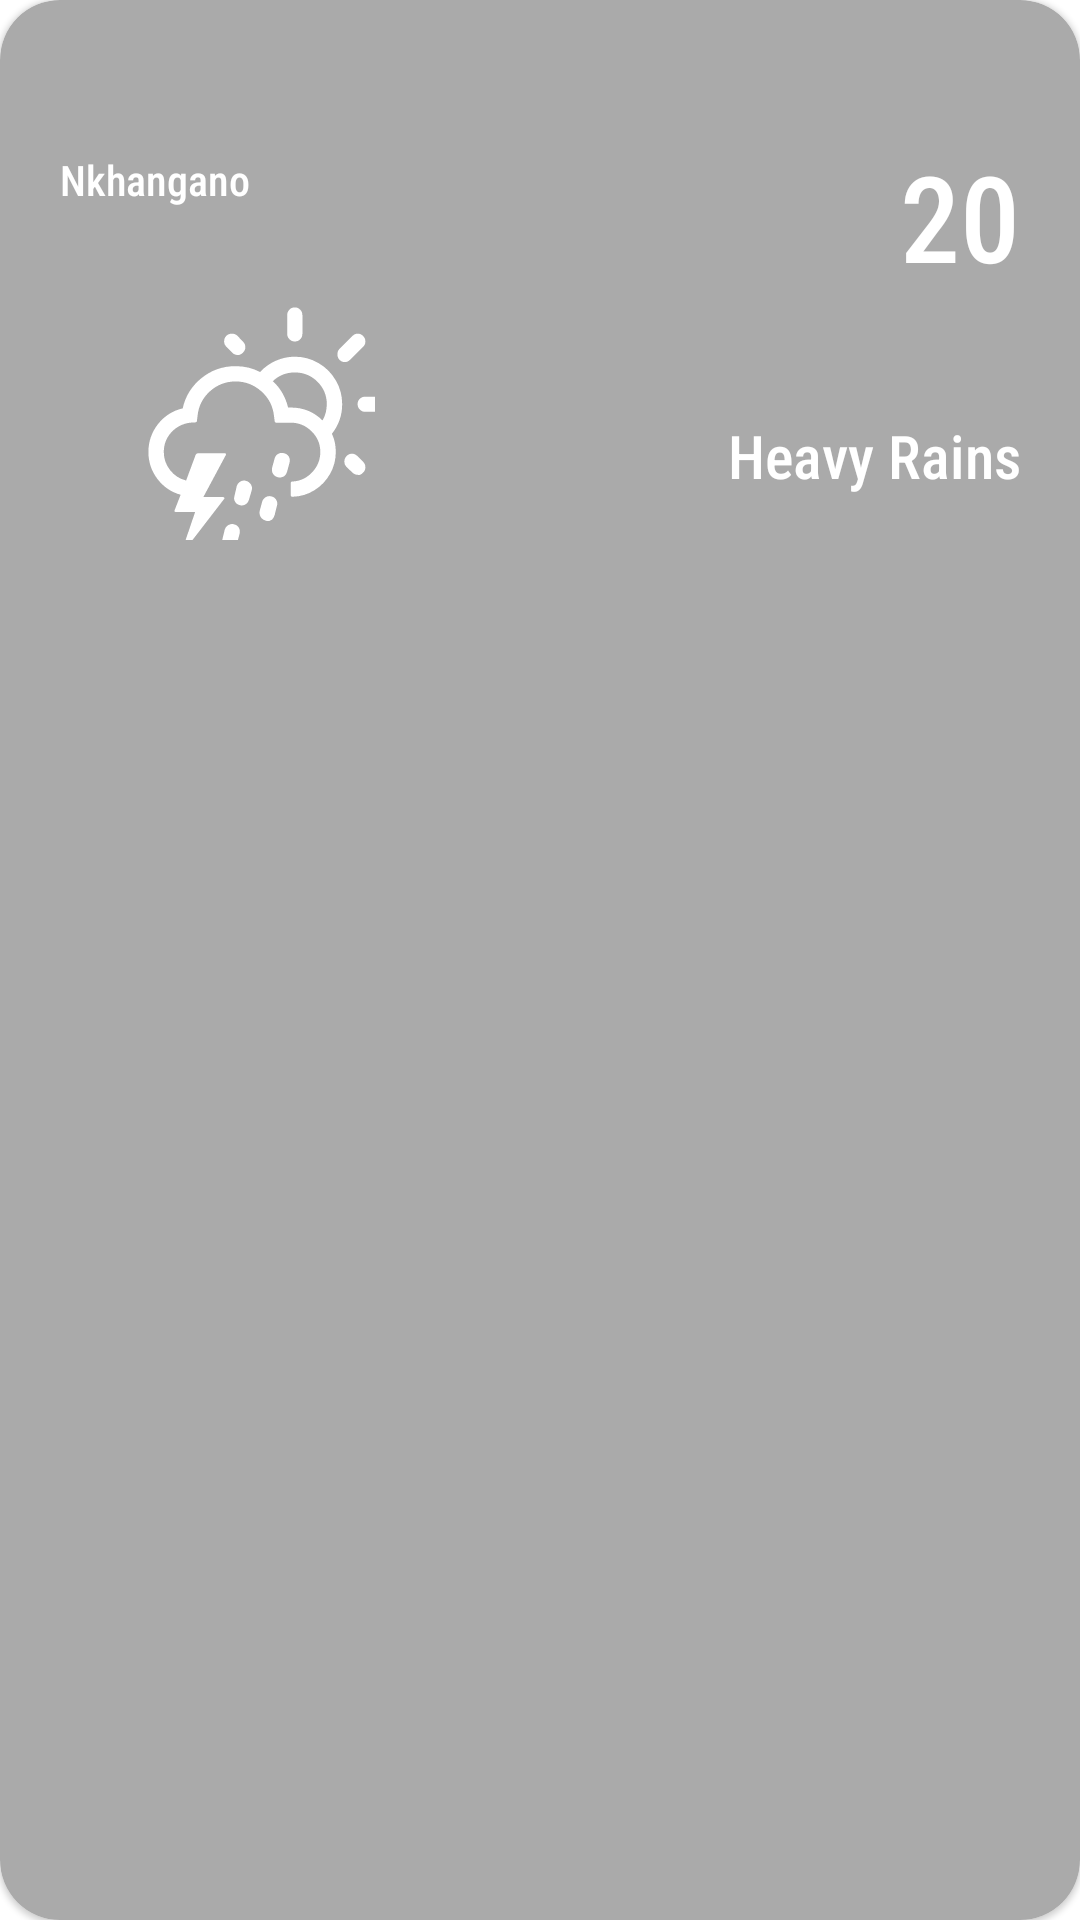

Icon bounding boxes for this 1080 × 1920 phone screenshot, format bbox=(x1, y1, x2, y2):
weather: bbox=(148, 307, 375, 540)
